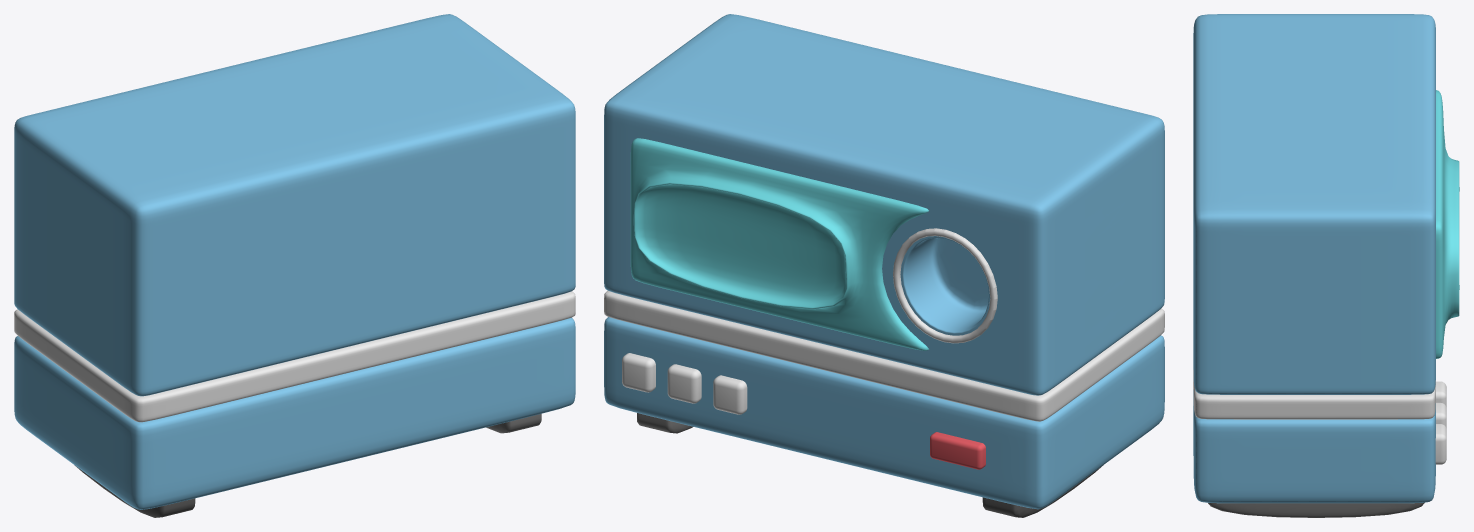
Rendered from radio part 3.fbx.
3 views of the same model, side by side, from view 1: azimuth 30°, elevation 25°; view 2: azimuth 150°, elevation 25°; view 3: azimuth 270°, elevation 25° (orthographic). The views are drawn at different scales.
Parts seen in each view (by area): view 1: Cube, Cube.007, Cube.006, Cube.008; view 2: Cube, Cube.007, Cube.001, Cube.006, Cube.010, Cube.005, Cube.003, Cube.004, Cube.002, Cube.008; view 3: Cube, Cube.007, Cube.006, Cube.001, Cube.009, Cube.002.
Boxes of the visible parts, x1=… form: Cube: x1=14, y1=14, x2=575, y2=396; Cube.007: x1=14, y1=317, x2=575, y2=509; Cube.006: x1=14, y1=291, x2=575, y2=422; Cube.008: x1=74, y1=465, x2=195, y2=517; Cube: x1=604, y1=14, x2=1164, y2=395; Cube.007: x1=604, y1=317, x2=1164, y2=509; Cube.001: x1=630, y1=138, x2=928, y2=350; Cube.006: x1=604, y1=290, x2=1164, y2=421; Cube.010: x1=893, y1=228, x2=997, y2=343; Cube.005: x1=930, y1=432, x2=985, y2=469; Cube.003: x1=667, y1=364, x2=701, y2=403; Cube.004: x1=713, y1=375, x2=747, y2=414; Cube.002: x1=622, y1=353, x2=655, y2=392; Cube.008: x1=982, y1=465, x2=1103, y2=517; Cube: x1=1193, y1=14, x2=1435, y2=394; Cube.007: x1=1193, y1=389, x2=1435, y2=503; Cube.006: x1=1193, y1=370, x2=1435, y2=419; Cube.001: x1=1436, y1=90, x2=1459, y2=358; Cube.009: x1=1208, y1=502, x2=1424, y2=517; Cube.002: x1=1435, y1=424, x2=1446, y2=464.
Bounding box in the file's own units: 16 × 11.55 × 8.77.
